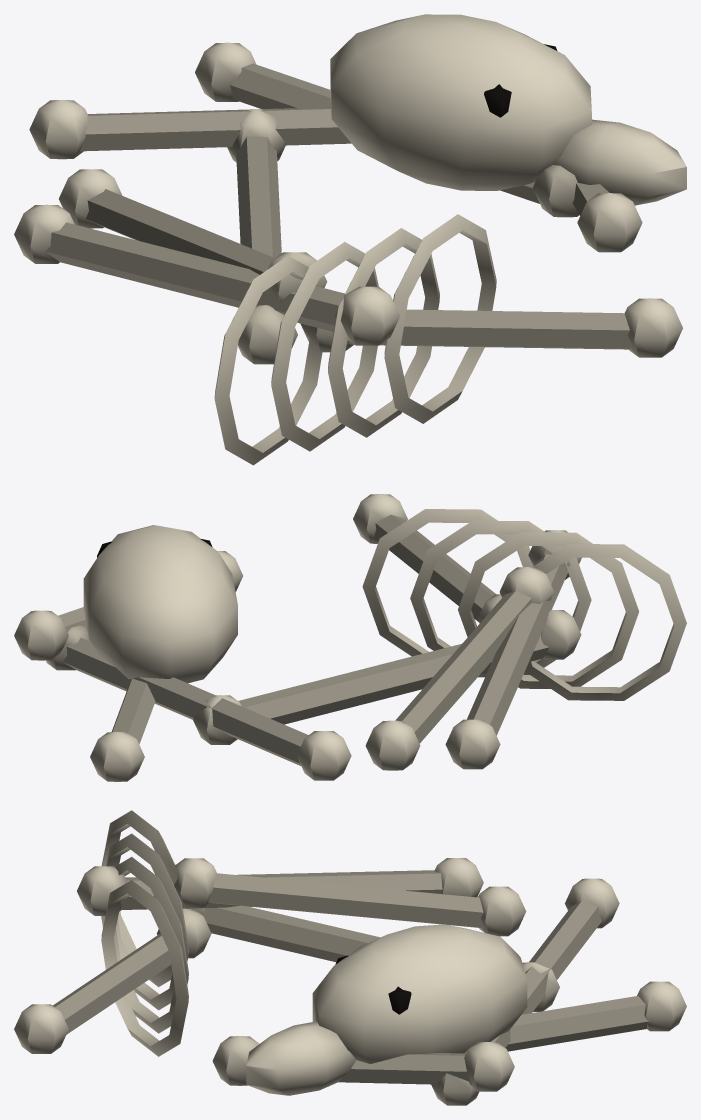
The model's file is bone_pile.glb.
3 views of the same model, one above another, from view 1: azimuth 30°, elevation 25°; view 2: azimuth 150°, elevation 25°; view 3: azimuth 270°, elevation 25° (orthographic). The views are drawn at different scales.
Parts seen in each view (by area): view 1: bone_pile; view 2: bone_pile; view 3: bone_pile.
Boxes of the visible parts, left/top/right/bottom form: bone_pile: left=14, top=14, right=686, bottom=465; bone_pile: left=14, top=494, right=686, bottom=781; bone_pile: left=14, top=810, right=686, bottom=1105.
Bounding box in the file's own units: 0.8024 × 0.2995 × 0.98.
